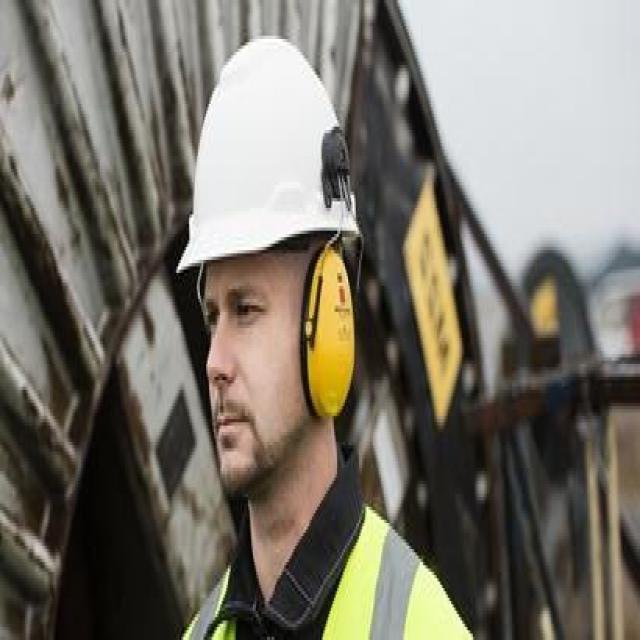Reflective-Jacket: (181, 497, 475, 640)
Safety-Helmet: (174, 32, 366, 280)
